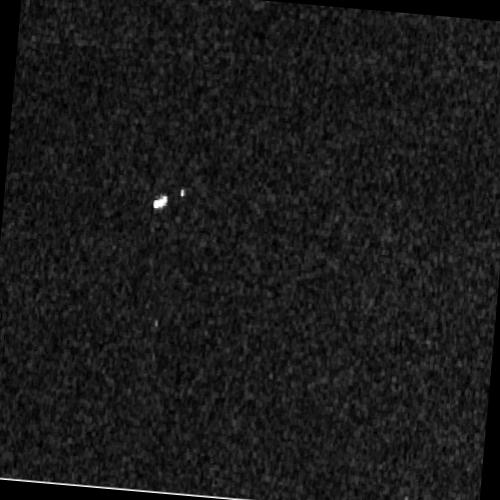ship: (152, 194, 168, 209)
